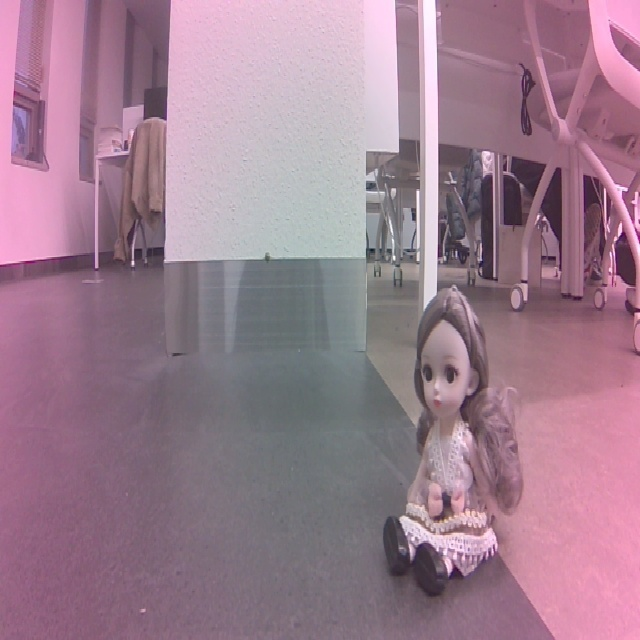장애물: (486, 265, 627, 545)
